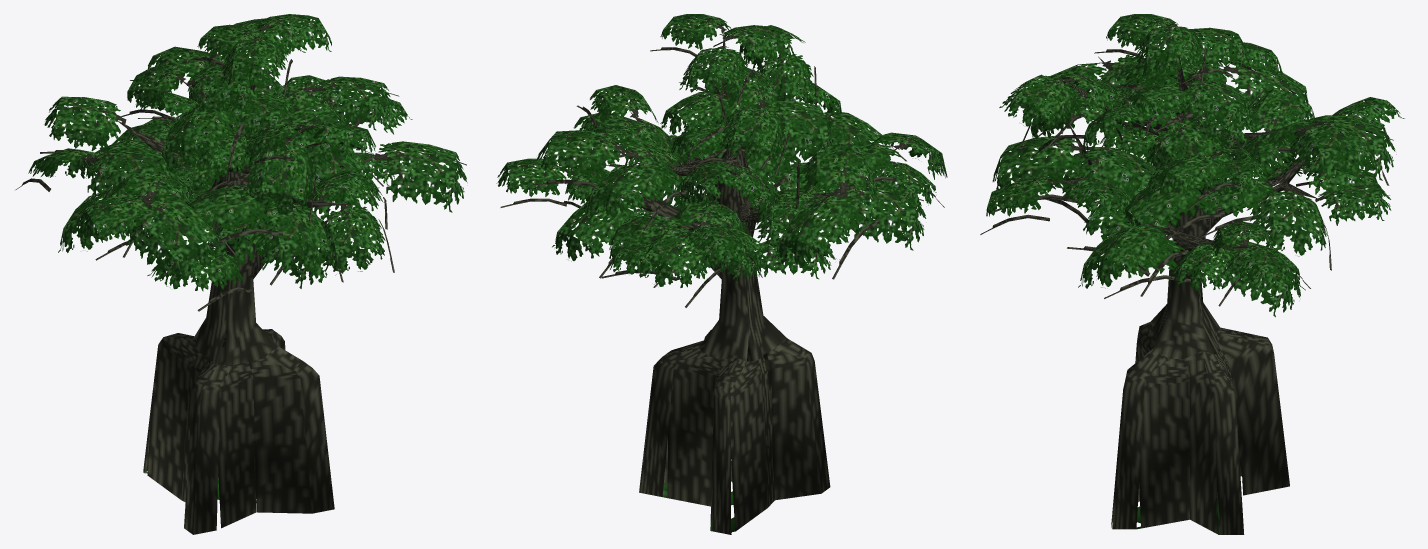
File: oak_tree_1_29.dae
3 renders of one model, left to right at view 1: azimuth 30°, elevation 25°; view 2: azimuth 150°, elevation 25°; view 3: azimuth 270°, elevation 25°, orthographic. The views are drawn at different scales.
Parts seen in each view (by area): view 1: Plane.026; view 2: Plane.026; view 3: Plane.026.
Part boxes in pixels (left/top/right/bottom): Plane.026: left=15, top=14, right=467, bottom=534; Plane.026: left=496, top=14, right=947, bottom=534; Plane.026: left=980, top=14, right=1404, bottom=534.
Size of the model in its own units: 0.7965 by 0.7157 by 0.8906.
Materials: 1 (1 with a texture image).
